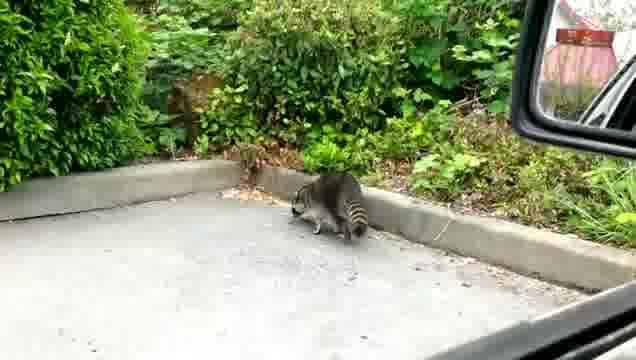raccoon: (289, 171, 369, 245)
